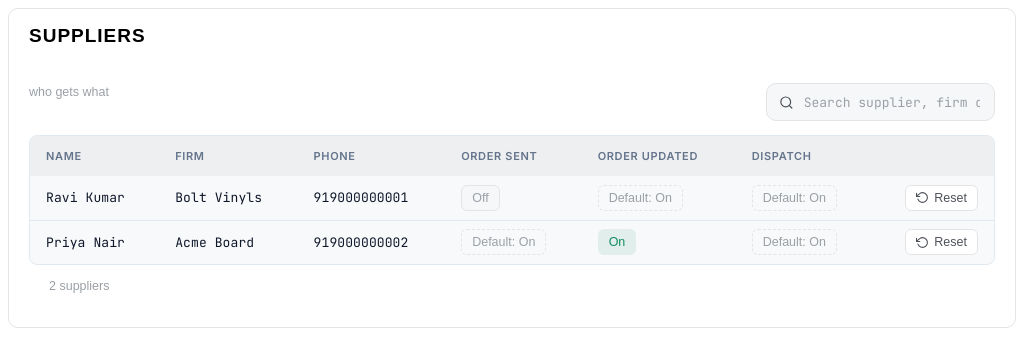
Scenario: ReminderPreferences › searches name, firm and phone
The image size is (1024, 345).
Expected: the text "Bolt Vinyls" is shown, [159,176,298,220]
Type "priya" into the field with placeholder "Search supplier, firm or phone".
click(892, 102); type("priya")  # box [802,94,982,110]
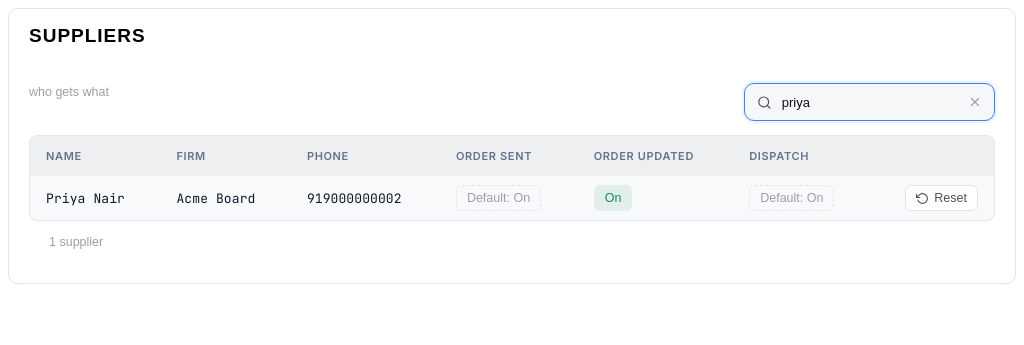
Expected: the text "Bolt Vinyls" is gone
Replace the text in the field with placeholder "Search supplier, firm or phone" with "Bolt" at (870, 102), box [780,94,960,110]
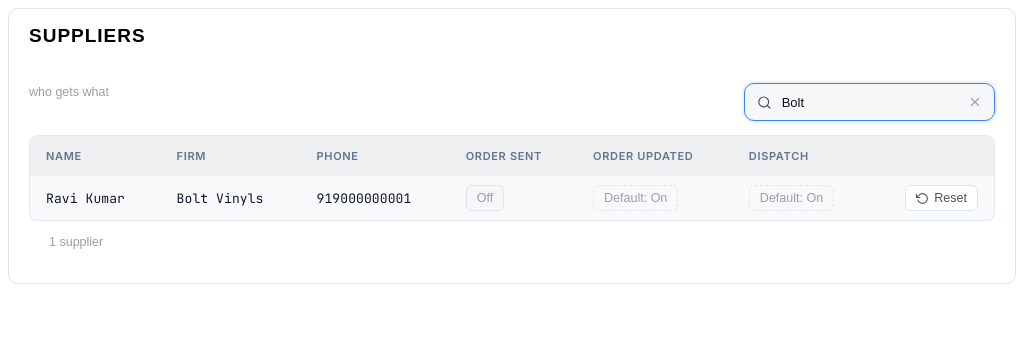
Expected: the text "Bolt Vinyls" is shown, [161,176,300,220]
Replace the text in the field with placeholder "Search supplier, firm or phone" with "919000000002" at (870, 102), box [780,94,960,110]
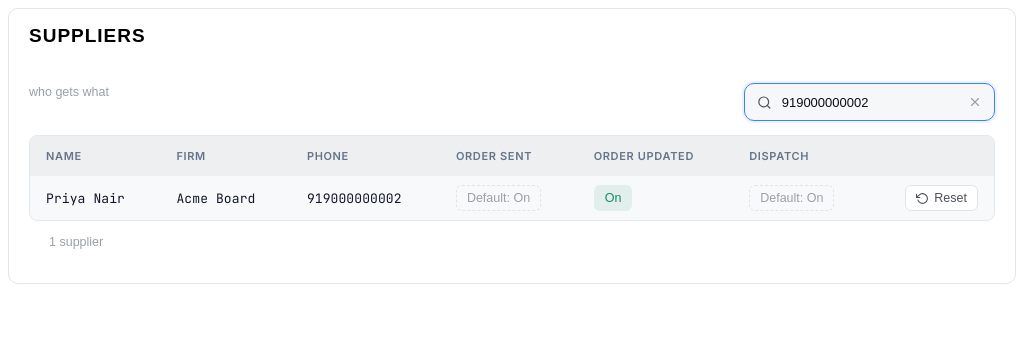
Expected: the text "Acme Board" is shown, [160,176,291,220]
Expected: the text "Bolt Vinyls" is gone
